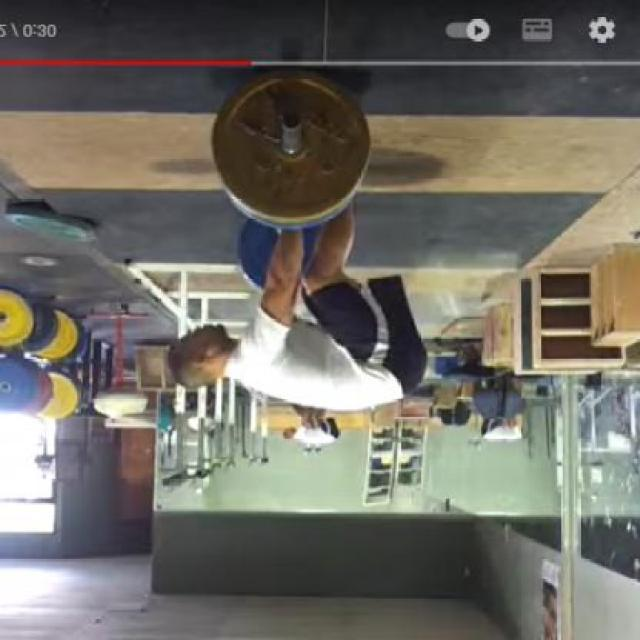Barbell: (278, 108, 307, 136)
